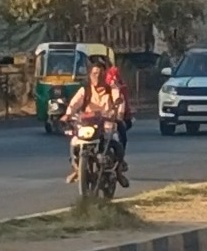BikeWithRider: (56, 53, 140, 208)
NoHelmet: (83, 60, 110, 88), (101, 63, 124, 88)
